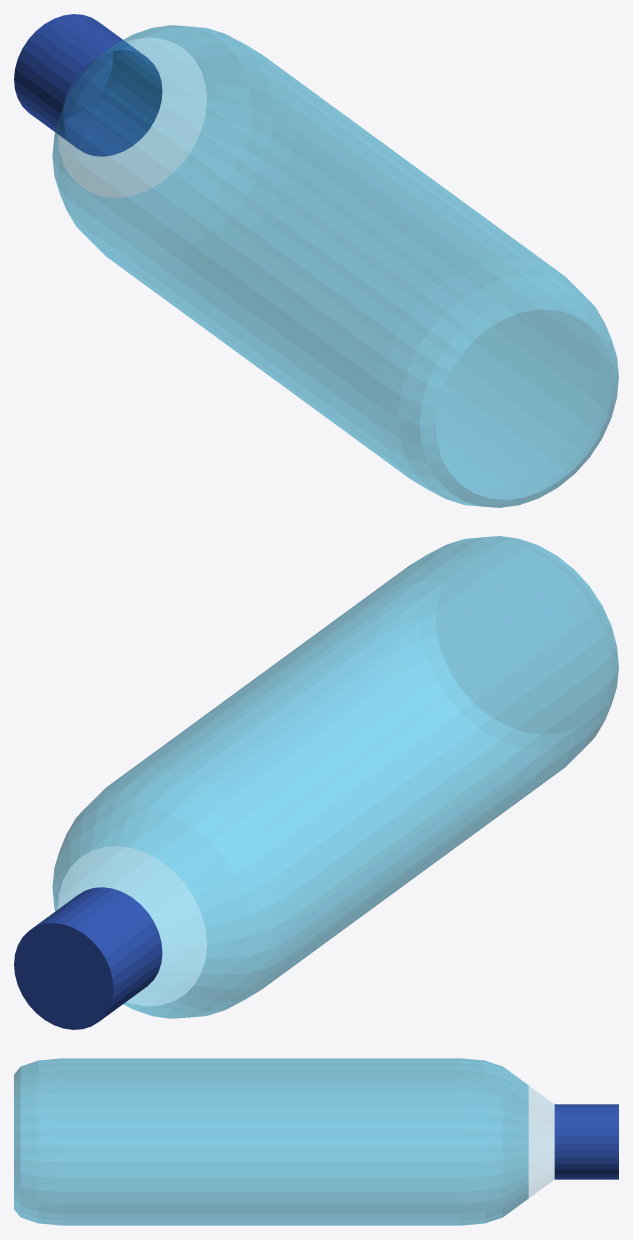
File: Water.fbx
3 views of the same model, one above another, from view 1: azimuth 30°, elevation 25°; view 2: azimuth 150°, elevation 25°; view 3: azimuth 270°, elevation 25° (orthographic). The views are drawn at different scales.
Visible parts, largest first — view 1: Cylinder.001; view 2: Cylinder.001; view 3: Cylinder.001.
Boxes of the visible parts, x1,y1,x2,y2 form: Cylinder.001: [14, 14, 618, 507]; Cylinder.001: [14, 536, 618, 1029]; Cylinder.001: [14, 1058, 618, 1225].
Size of the model in its own units: 6.78 by 6.78 by 24.48.
